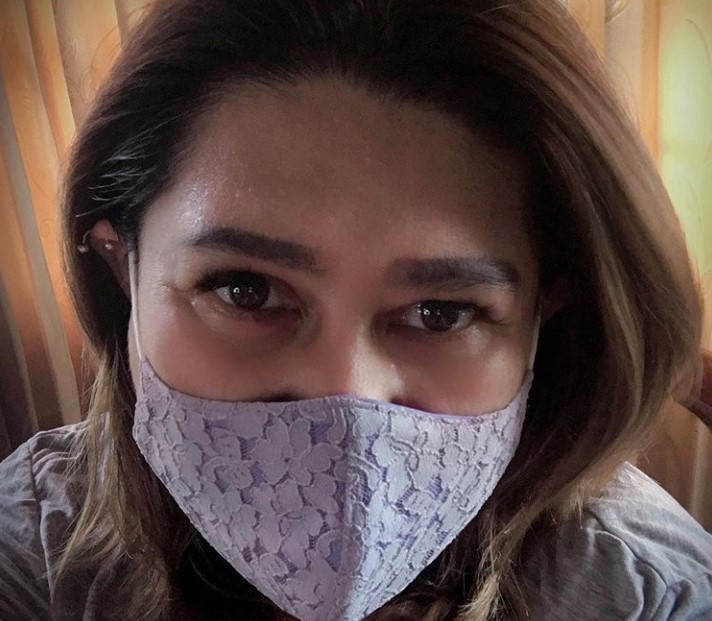face_with_mask: (84, 13, 586, 621)
